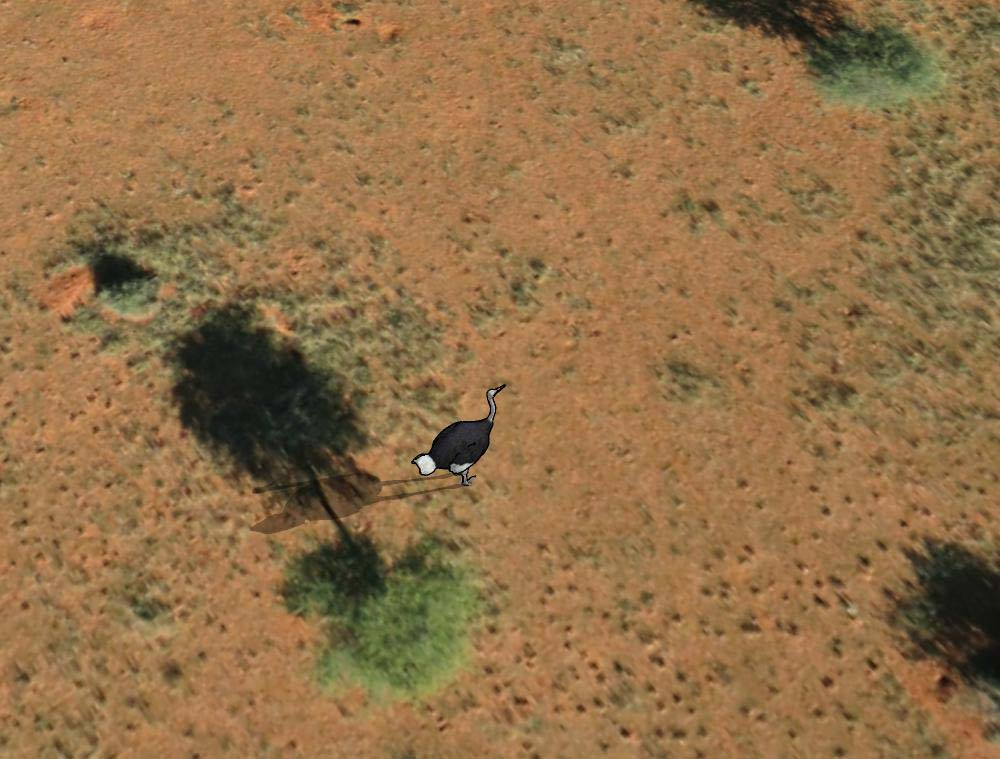springbok: (407, 380, 513, 490)
